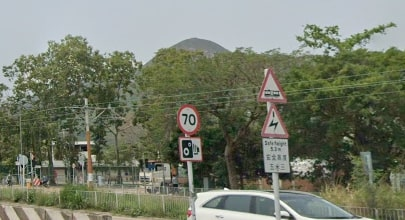Speed Limit: (173, 103, 200, 134)
